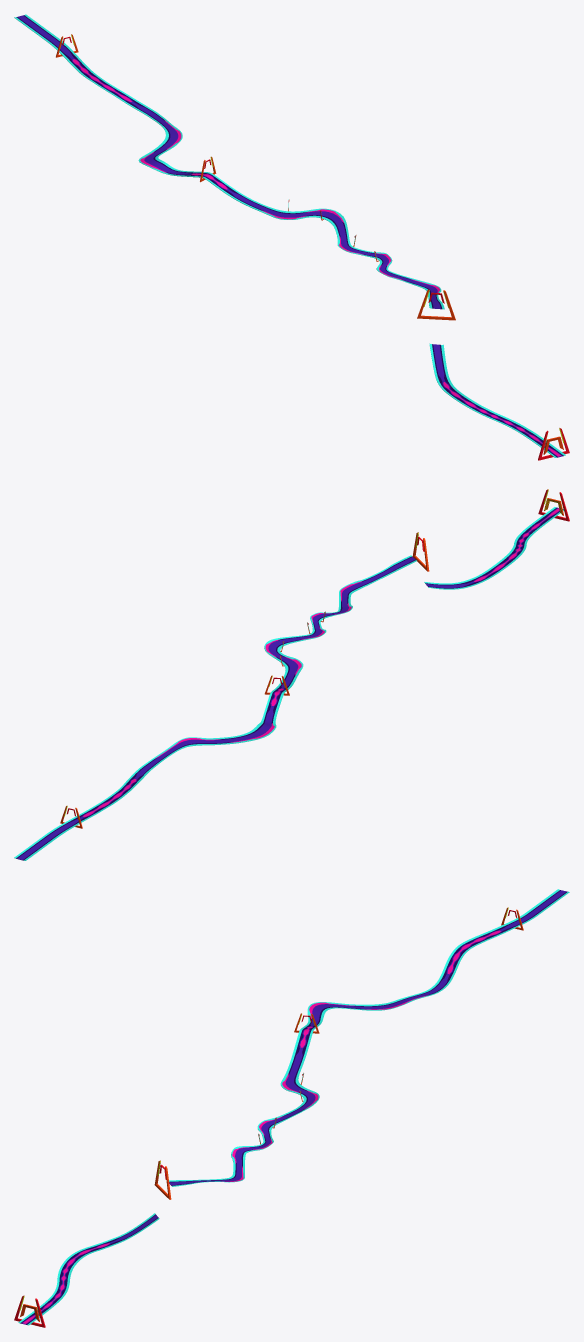
The model's file is Track_FrostRework.FBX.
3 renders of one model, top to bottom at view 1: azimuth 30°, elevation 25°; view 2: azimuth 150°, elevation 25°; view 3: azimuth 330°, elevation 25°, orthographic.
Visible parts, largest first — view 1: sadsadasd; view 2: sadsadasd; view 3: sadsadasd.
Part boxes in pixels (x1,y1,x2,y2): sadsadasd: (14,14,569,460); sadsadasd: (14,489,569,860); sadsadasd: (14,889,569,1327).
Size of the model in its own units: 14247 by 9226 by 118061.
